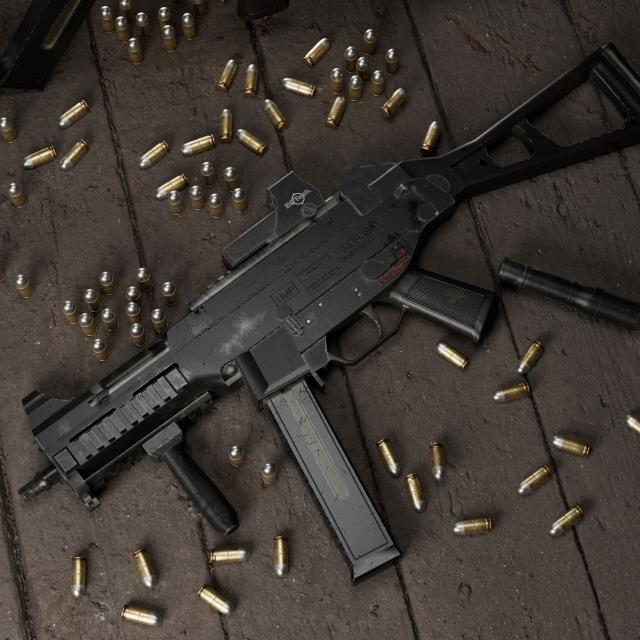SMG: (22, 45, 640, 585)
